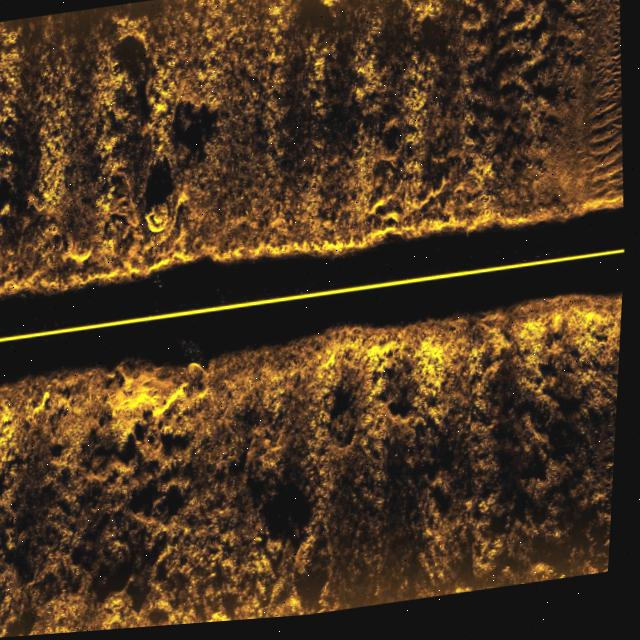mine: (612, 400, 622, 423)
